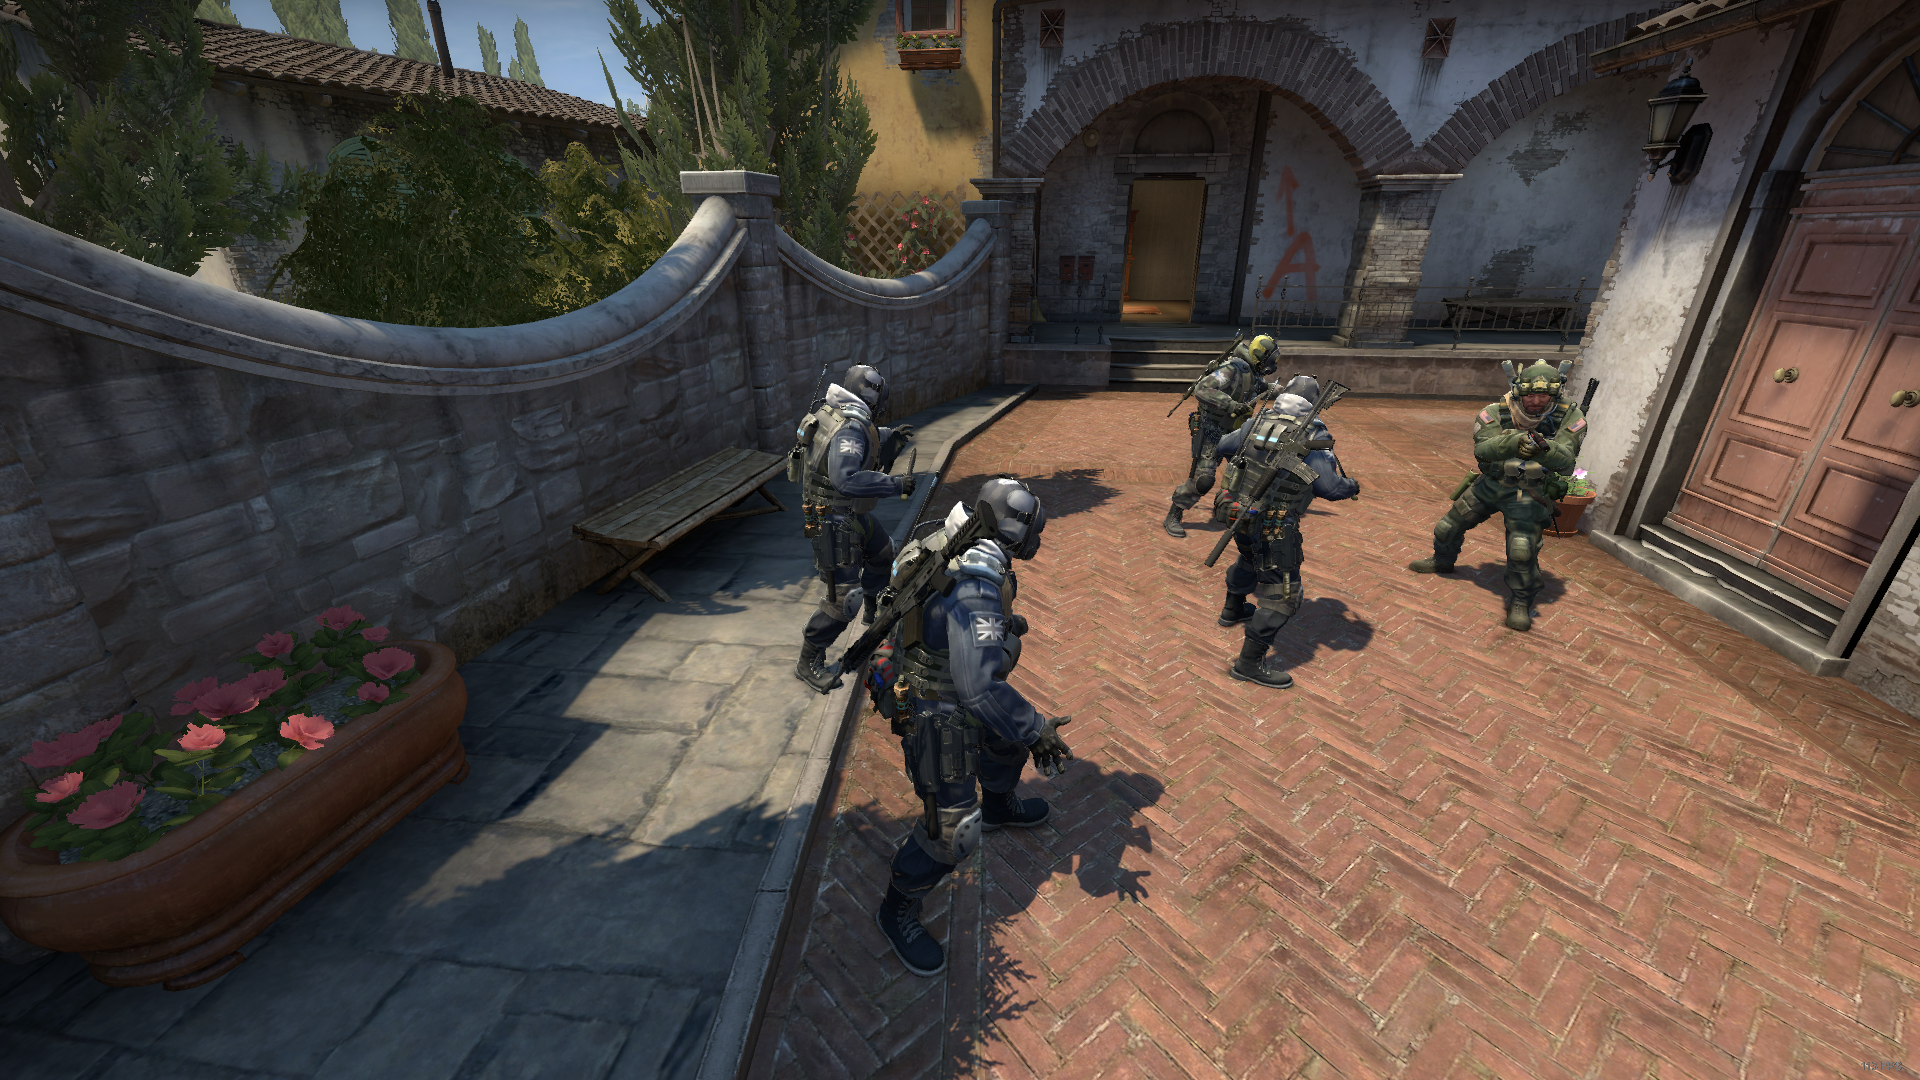ct: (855, 475, 1072, 992), (1215, 372, 1367, 694), (790, 353, 916, 688)
